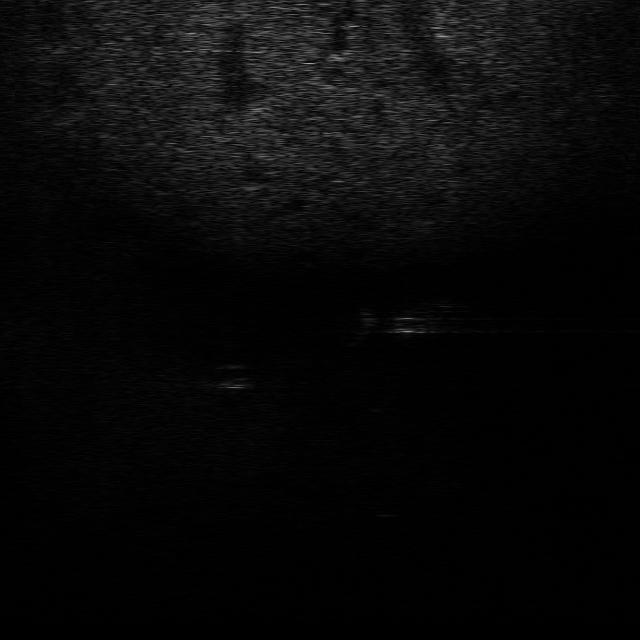ball: (210, 360, 261, 392)
human body: (344, 298, 460, 347)
